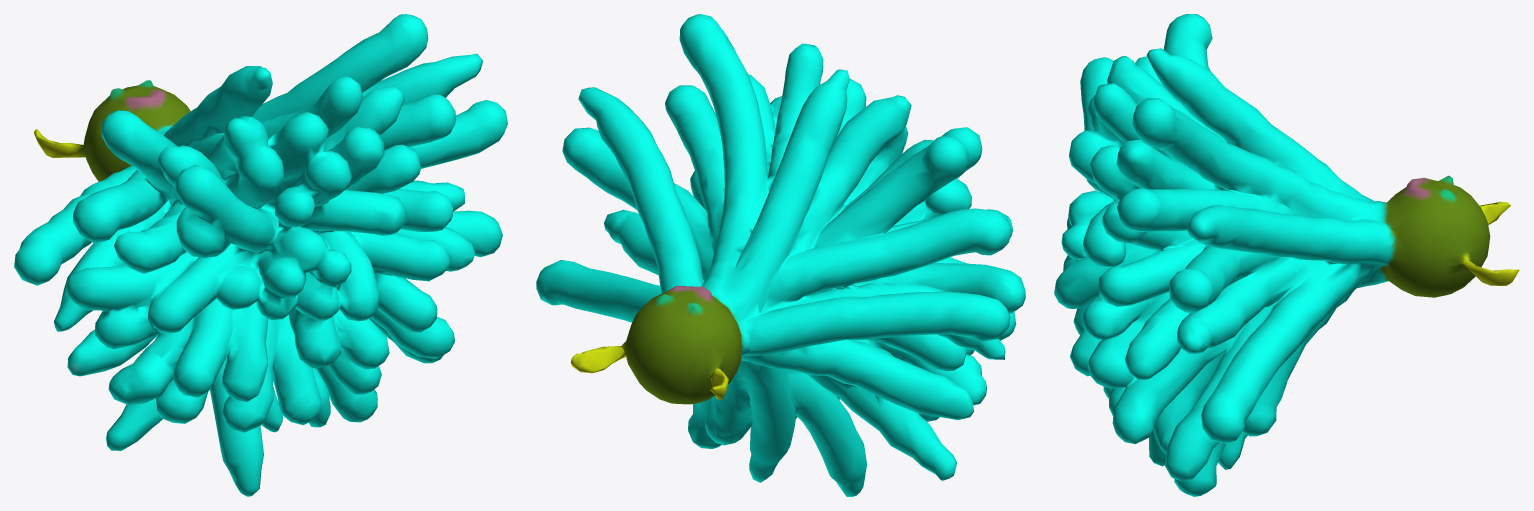
Rendered from Squid Soldier.fbx.
The picture shows the model from 3 angles, left to right: view 1: azimuth 30°, elevation 25°; view 2: azimuth 150°, elevation 25°; view 3: azimuth 270°, elevation 25°; orthographic projection.
Visible parts, largest first — view 1: Squid_Soldier; view 2: Squid_Soldier; view 3: Squid_Soldier.
Part boxes in pixels (box(x1,y1,x2,y2)): Squid_Soldier: box(14, 14, 507, 496); Squid_Soldier: box(536, 14, 1025, 496); Squid_Soldier: box(1054, 14, 1519, 496).
Size of the model in its own units: 0.3029 by 0.258 by 0.2698.
